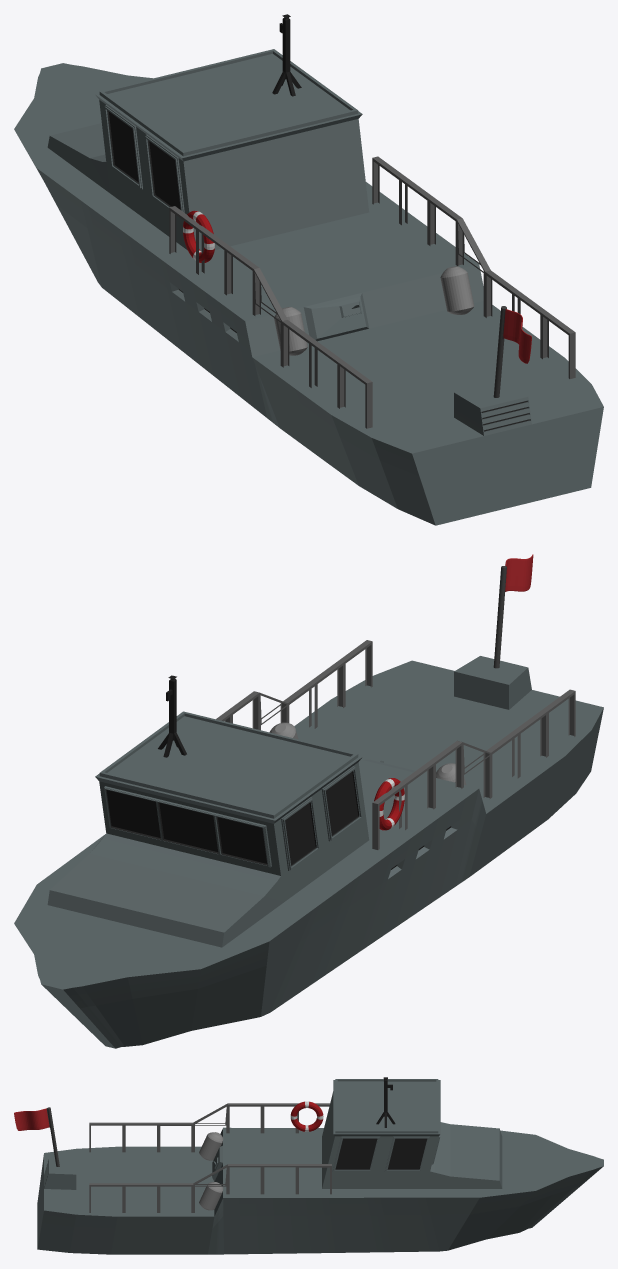
File: fast_assault_boat_low_poly.glb
The picture shows the model from 3 angles, top to bottom: view 1: azimuth 30°, elevation 25°; view 2: azimuth 150°, elevation 25°; view 3: azimuth 270°, elevation 25°; orthographic projection. The views are drawn at different scales.
Visible parts, largest first — view 1: Boat_6, Cube.002_1, Cylinder.002_4, Cylinder.001_3, Torus_5, Cube.001_0, Cylinder_2; view 2: Boat_6, Cube.002_1, Cylinder.002_4, Cube.001_0, Torus_5; view 3: Boat_6, Cube.002_1, Cylinder.002_4, Torus_5, Cylinder_2, Cylinder.001_3, Cube.001_0.
Boxes of the visible parts, x1=… form: Boat_6: x1=14, y1=49, x2=603, y2=525; Cube.002_1: x1=169, y1=156, x2=575, y2=428; Cylinder.002_4: x1=493, y1=306, x2=531, y2=397; Cylinder.001_3: x1=440, y1=266, x2=474, y2=314; Torus_5: x1=183, y1=210, x2=214, y2=262; Cube.001_0: x1=272, y1=14, x2=301, y2=96; Cylinder_2: x1=274, y1=307, x2=307, y2=355; Boat_6: x1=14, y1=656, x2=603, y2=1048; Cube.002_1: x1=216, y1=640, x2=575, y2=849; Cylinder.002_4: x1=493, y1=554, x2=533, y2=668; Cube.001_0: x1=158, y1=675, x2=186, y2=757; Torus_5: x1=374, y1=778, x2=404, y2=830; Boat_6: x1=37, y1=1079, x2=603, y2=1254; Cube.002_1: x1=89, y1=1103, x2=331, y2=1212; Cylinder.002_4: x1=14, y1=1107, x2=59, y2=1166; Torus_5: x1=290, y1=1101, x2=323, y2=1131; Cylinder_2: x1=199, y1=1132, x2=223, y2=1160; Cylinder.001_3: x1=199, y1=1182, x2=223, y2=1210; Cube.001_0: x1=376, y1=1077, x2=395, y2=1127.
Size of the model in its own units: 2 by 2.2 by 7.11.
